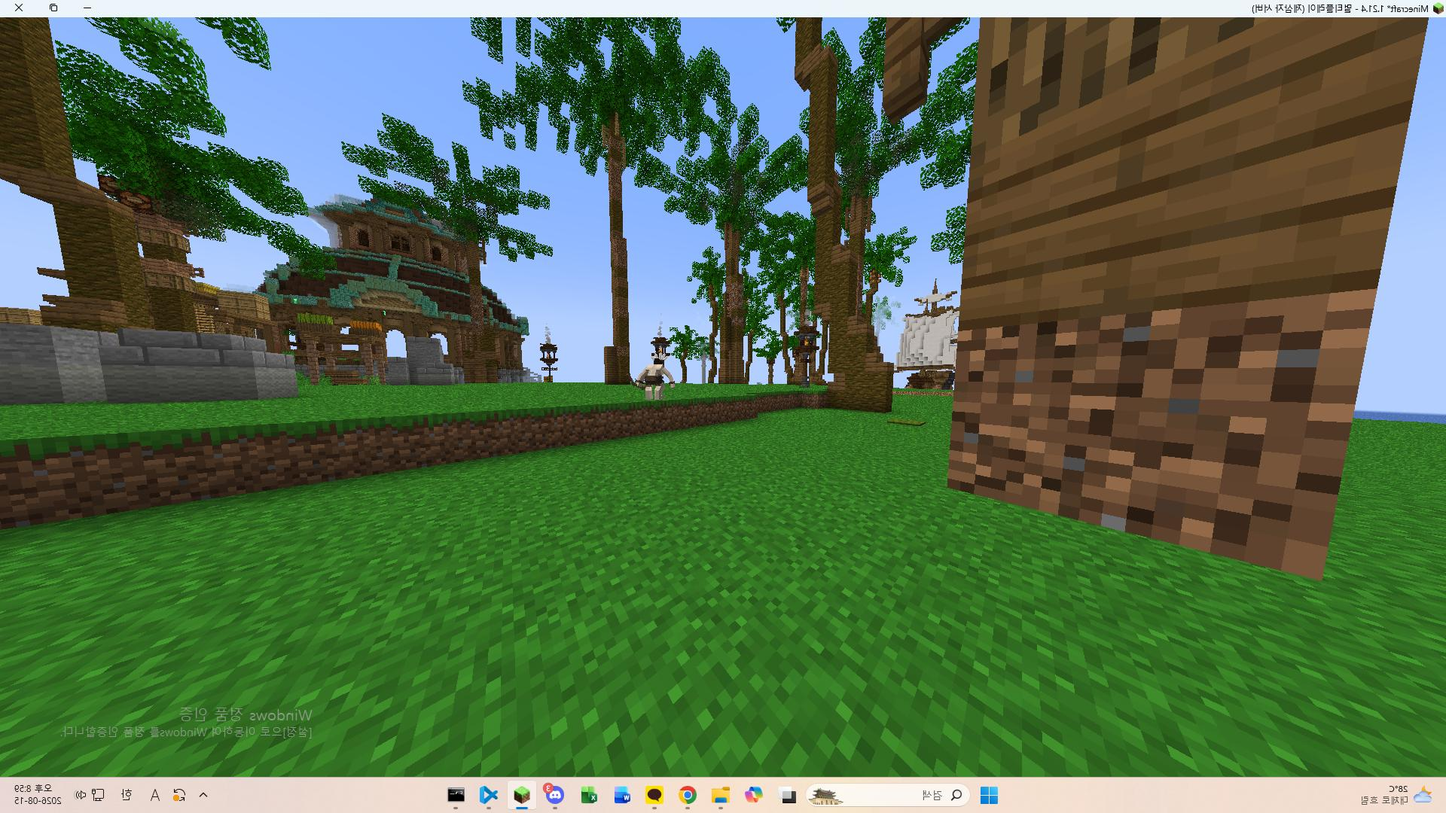bow_indian: (615, 345, 682, 416)
